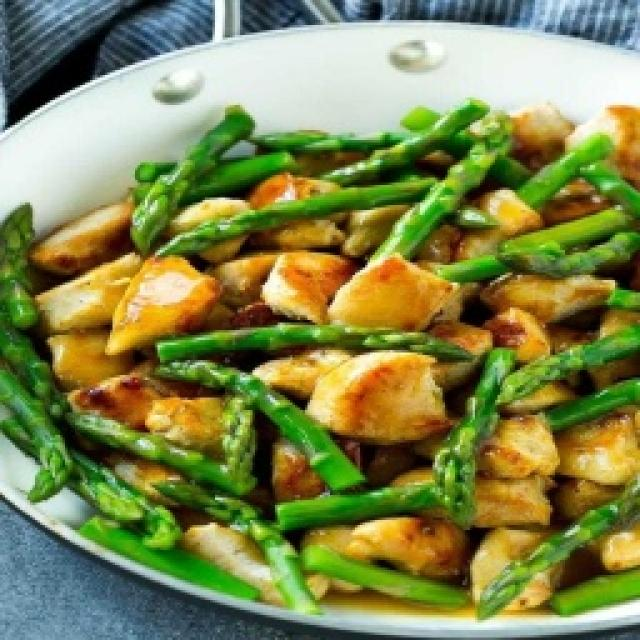Asparagus spear: (171, 319, 452, 351), (165, 206, 430, 237), (502, 342, 640, 388), (172, 363, 307, 409)
